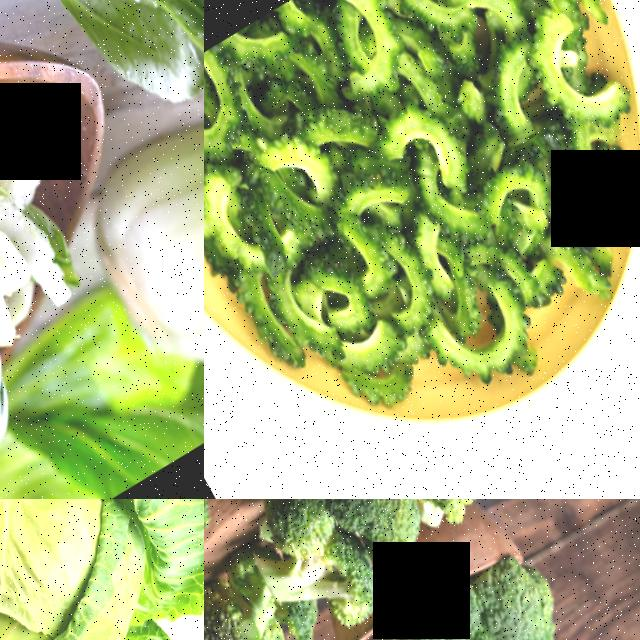bok choy: (67, 96, 204, 426)
broccoli: (223, 499, 368, 640), (371, 562, 588, 640), (297, 499, 444, 597), (204, 553, 314, 640), (377, 499, 504, 553)
cabbage: (0, 499, 204, 640)
